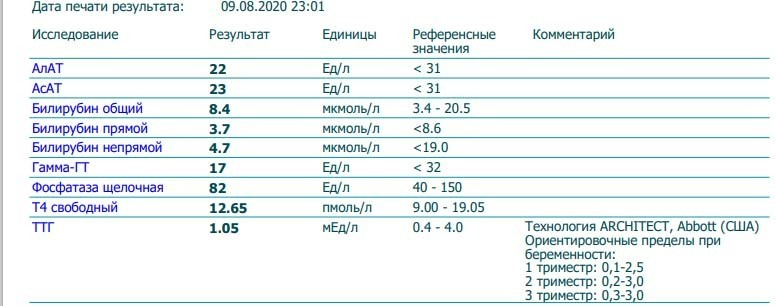column: (523, 27, 759, 302), (30, 27, 163, 302), (411, 27, 497, 302), (208, 27, 271, 302), (321, 27, 380, 302)
